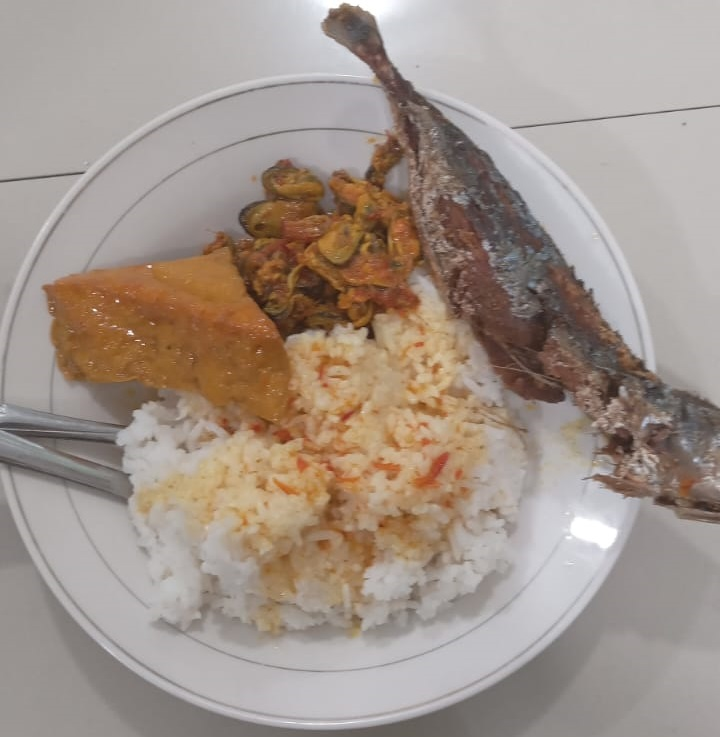Ikan_kembung: (455, 272, 677, 403)
Kerang: (243, 164, 427, 310)
Nasi: (121, 415, 521, 625)
Sayur_tahu: (44, 250, 281, 423)
